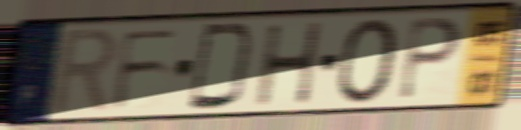D: (185, 21, 259, 113)
F: (109, 25, 183, 113)
H: (254, 19, 326, 109)
O: (336, 15, 402, 107)
P: (395, 16, 464, 103)
R: (46, 24, 122, 119)
